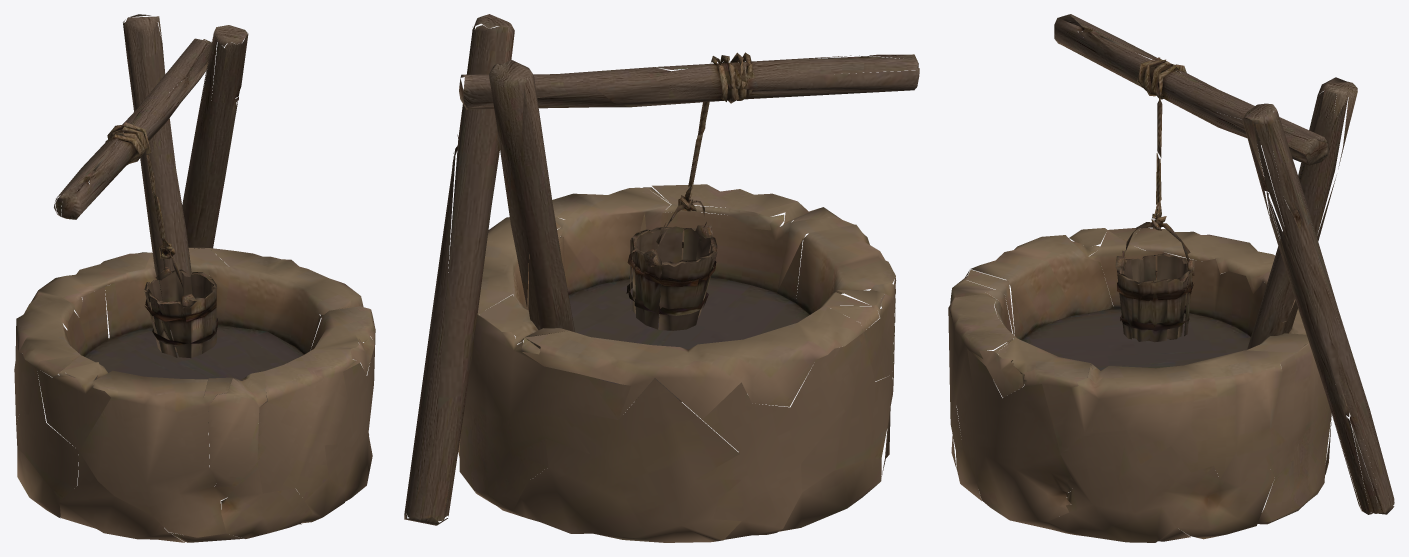
File: well.glb
3 views of the same model, side by side, from view 1: azimuth 30°, elevation 25°; view 2: azimuth 150°, elevation 25°; view 3: azimuth 270°, elevation 25° (orthographic). The views are drawn at different scales.
Visible parts, largest first — view 1: ch1.well.001; view 2: ch1.well.001; view 3: ch1.well.001.
Part boxes in pixels (box(x1,y1,x2,y2)): ch1.well.001: box(14, 14, 375, 542); ch1.well.001: box(404, 14, 919, 542); ch1.well.001: box(948, 14, 1394, 542).
Size of the model in its own units: 0.906 by 1 by 0.9997.
Materials: 1 (1 with a texture image).
